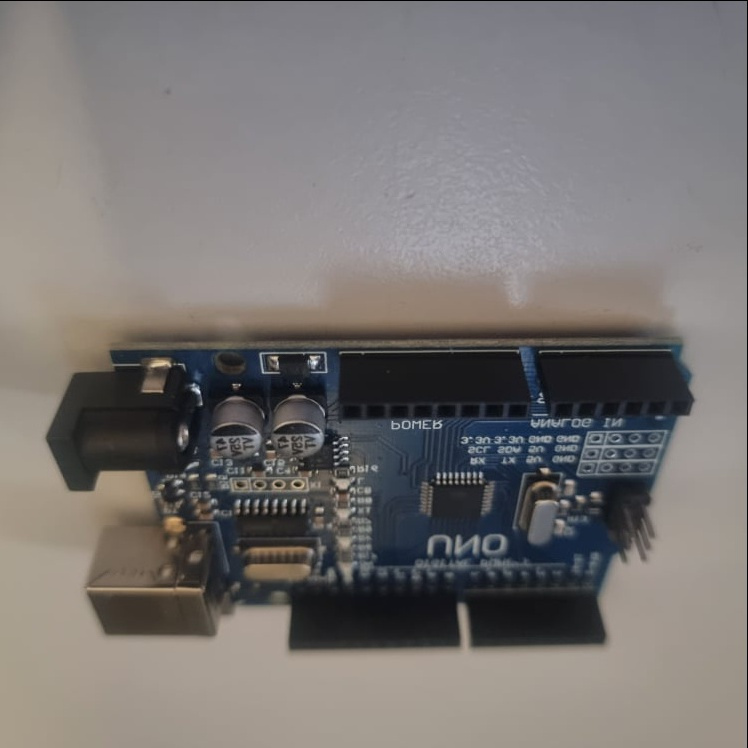UNO R3: (46, 332, 697, 656)
